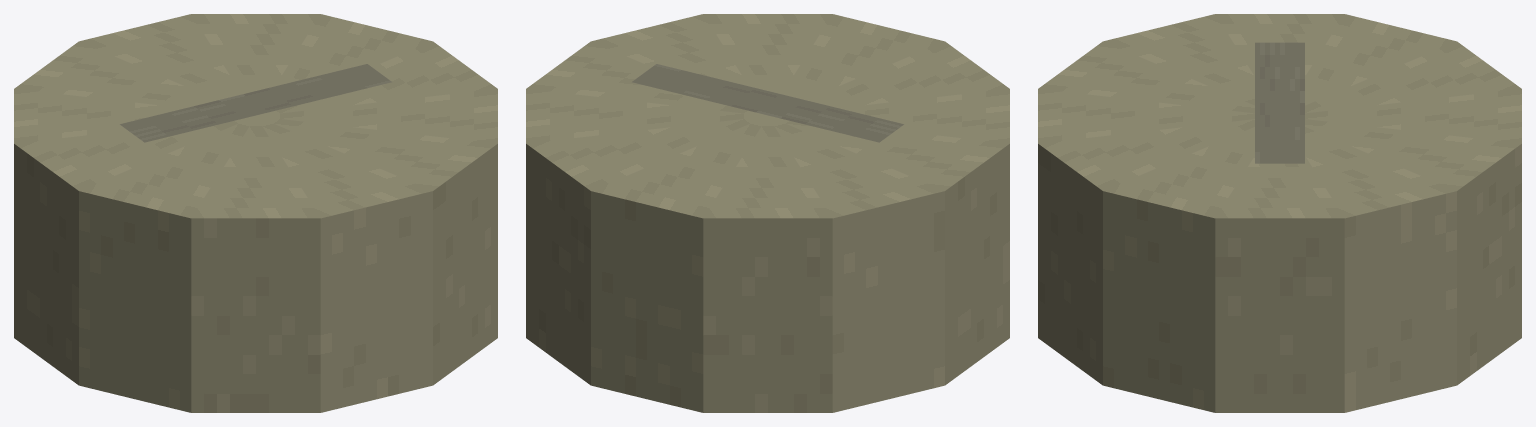
Rendered from vitamins.glb.
The picture shows the model from 3 angles, left to right: view 1: azimuth 30°, elevation 25°; view 2: azimuth 150°, elevation 25°; view 3: azimuth 270°, elevation 25°; orthographic projection.
Parts seen in each view (by area): view 1: block_single tablet, block_score; view 2: block_single tablet, block_score; view 3: block_single tablet, block_score.
Part boxes in pixels (left/top/right/bottom): block_single tablet: left=14, top=14, right=497, bottom=412; block_score: left=120, top=64, right=391, bottom=142; block_single tablet: left=526, top=14, right=1009, bottom=412; block_score: left=632, top=64, right=903, bottom=142; block_single tablet: left=1038, top=14, right=1521, bottom=412; block_score: left=1255, top=42, right=1304, bottom=163.
Bounding box in the file's own units: 0.0135 × 0.0064 × 0.0135.
1 material, 1 textured.
